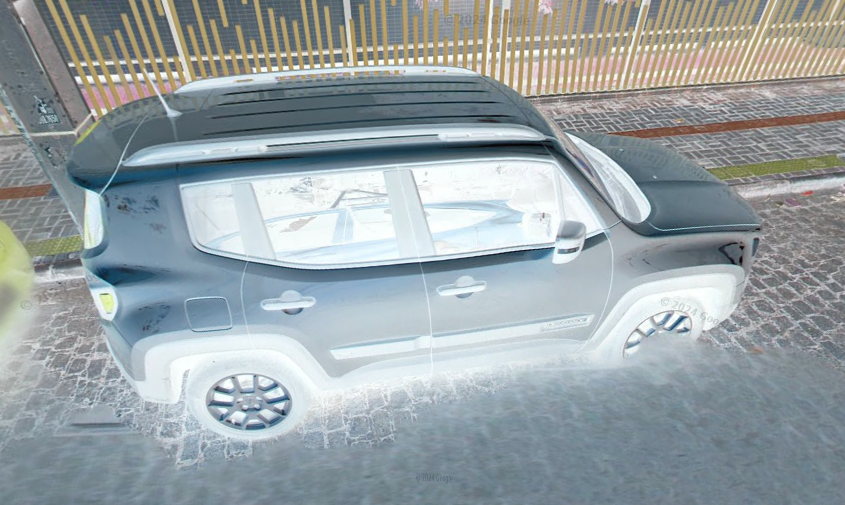car: (64, 63, 765, 445)
